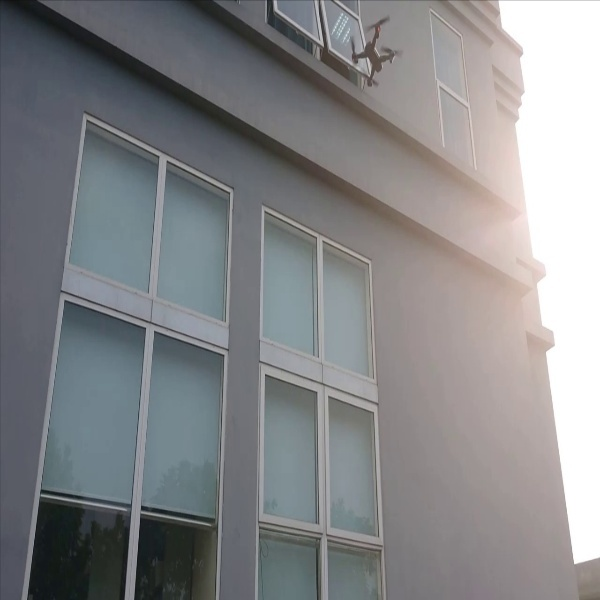drone: (341, 11, 405, 90)
